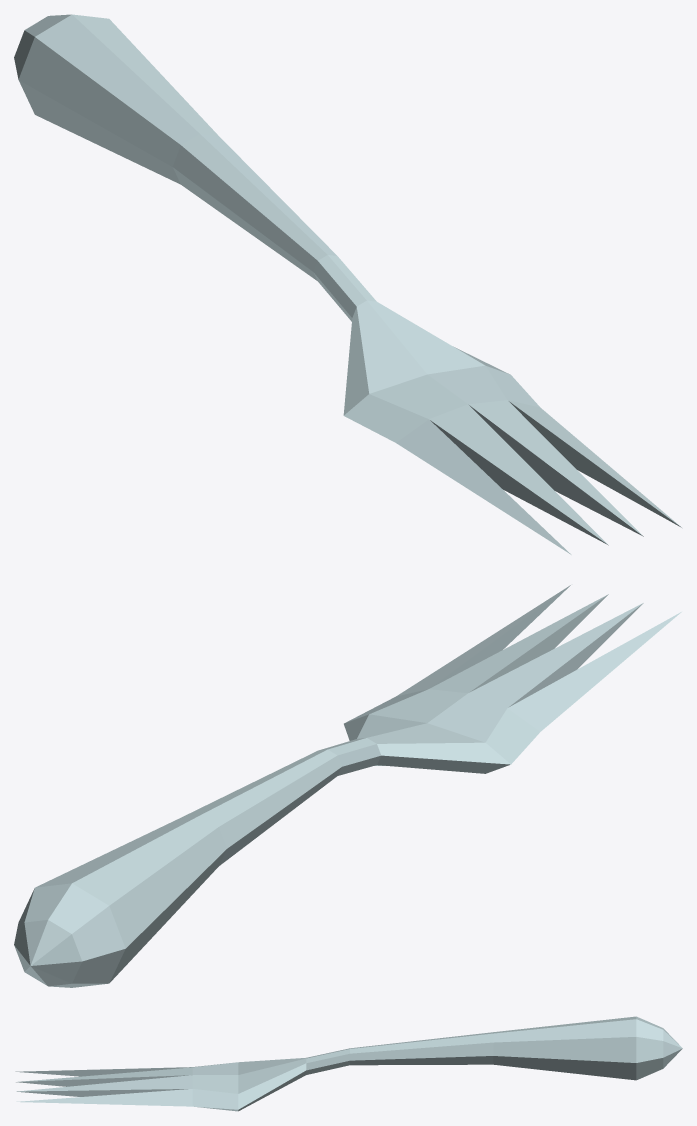
The model's file is Fork.fbx.
The picture shows the model from 3 angles, top to bottom: view 1: azimuth 30°, elevation 25°; view 2: azimuth 150°, elevation 25°; view 3: azimuth 270°, elevation 25°; orthographic projection. The views are drawn at different scales.
Parts seen in each view (by area): view 1: Fork; view 2: Fork; view 3: Fork.
Part boxes in pixels (x1,y1,x2,y2): Fork: [14, 14, 681, 554]; Fork: [14, 585, 681, 987]; Fork: [15, 1016, 682, 1111].
Size of the model in its own units: 3.31 by 2.68 by 20.44.
